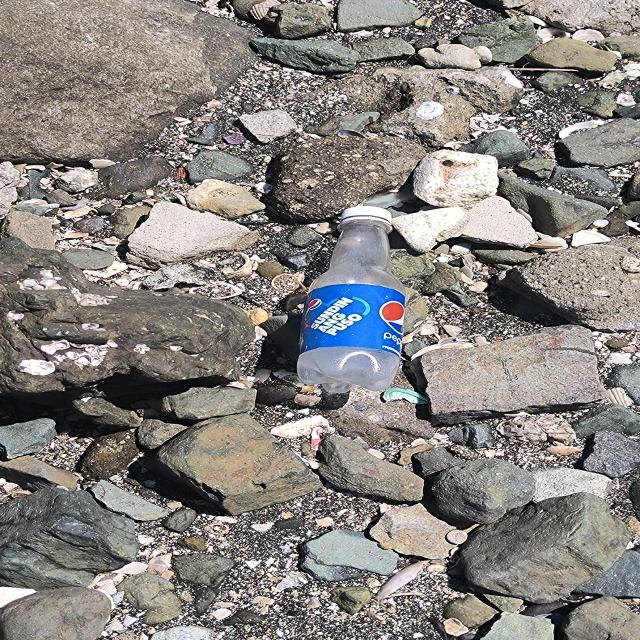plastic_waste: (297, 206, 409, 395)
